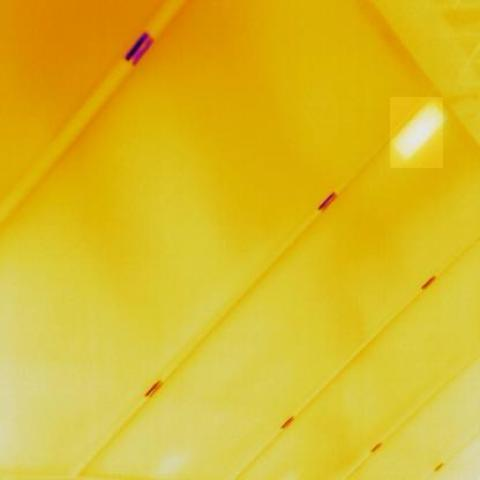fault: (390, 97, 443, 168)
